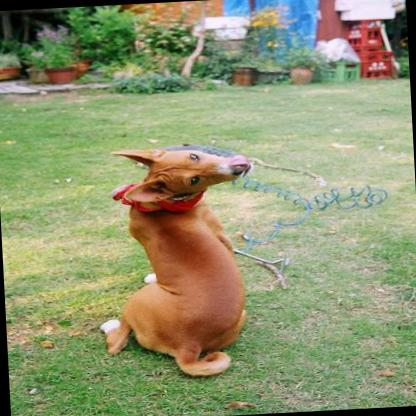basenji: (90, 140, 257, 382)
